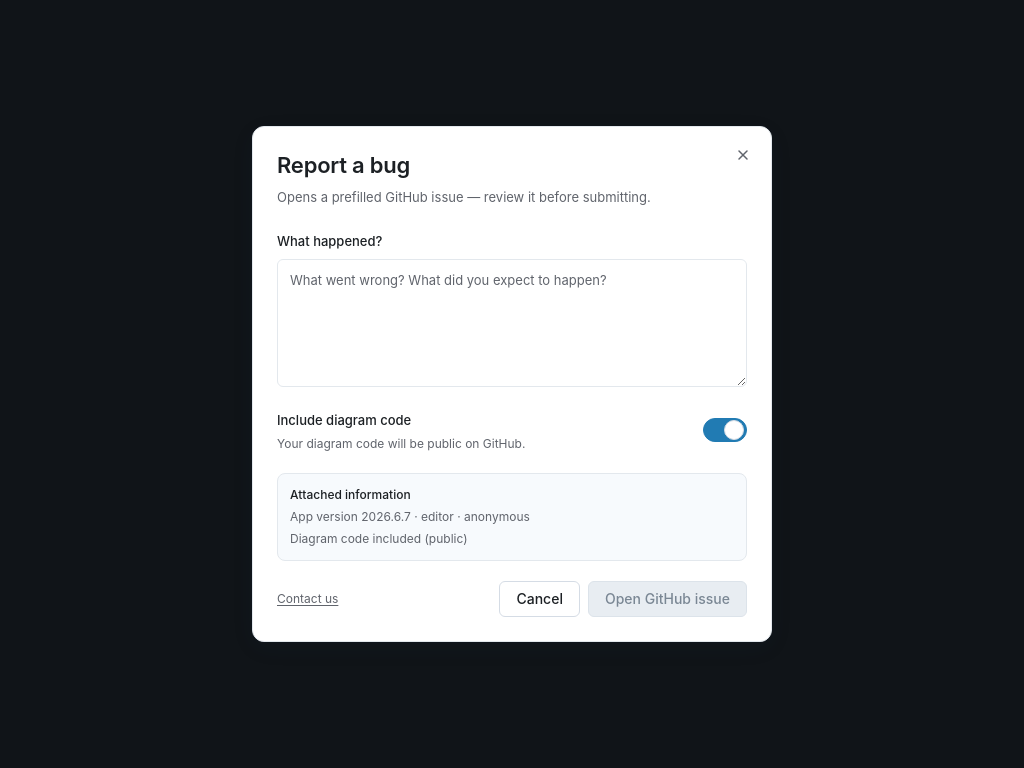
Test: ReportBugModal › disables submit until a description is entered
Expected: the button with test id "report-bug-submit" is disabled, top-left (588, 581), bottom-right (747, 617)
Type "RenderGlitch" into the text box with test id "report-bug-description" at (512, 323), box top-left (277, 259), bottom-right (747, 387)
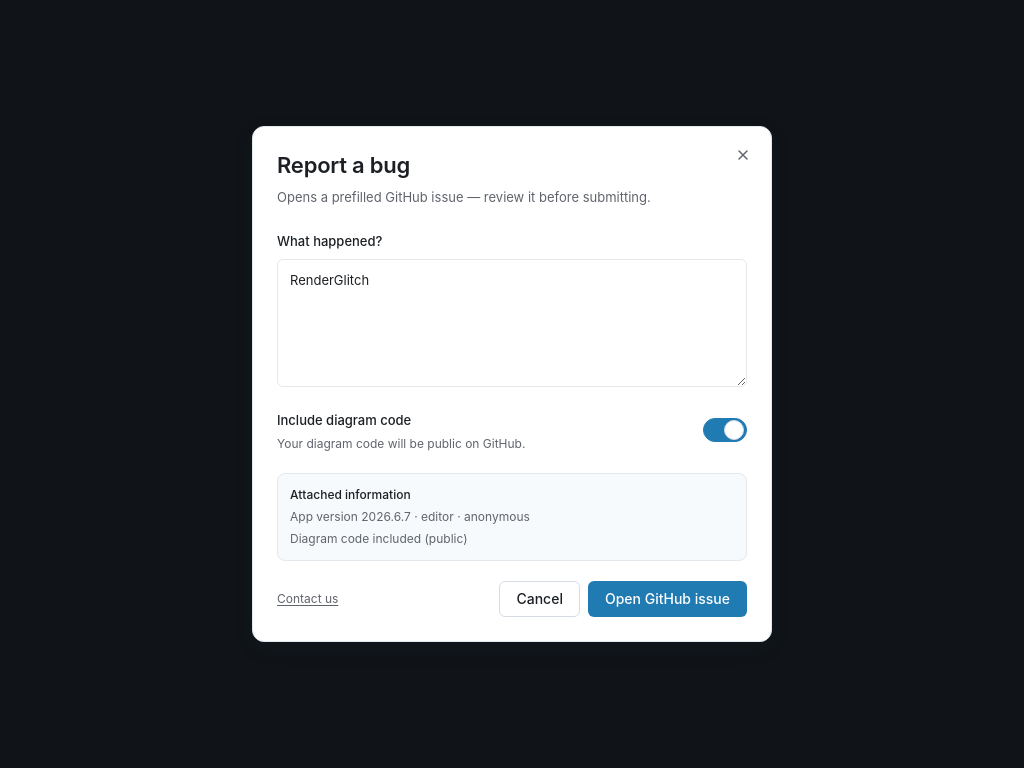
Now the button with test id "report-bug-submit" is enabled, box top-left (588, 581), bottom-right (747, 617)
